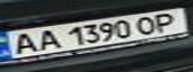0: (112, 17, 136, 39)
1: (63, 24, 84, 46)
3: (81, 21, 100, 44)
9: (97, 19, 118, 43)
A: (3, 30, 42, 56), (30, 27, 63, 52)
O: (133, 14, 163, 35)
P: (148, 10, 184, 33)
